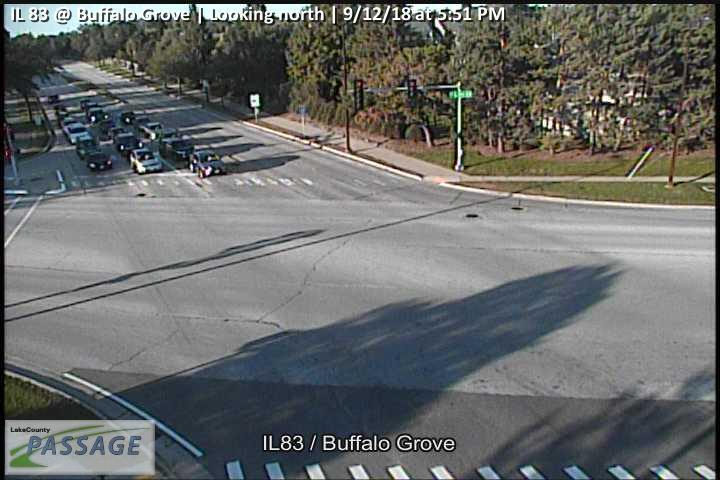SUV: (189, 150, 228, 178), (160, 135, 194, 163), (63, 121, 93, 144), (78, 136, 100, 160)
Sedan: (130, 148, 165, 175), (114, 132, 144, 157), (86, 153, 111, 171)
